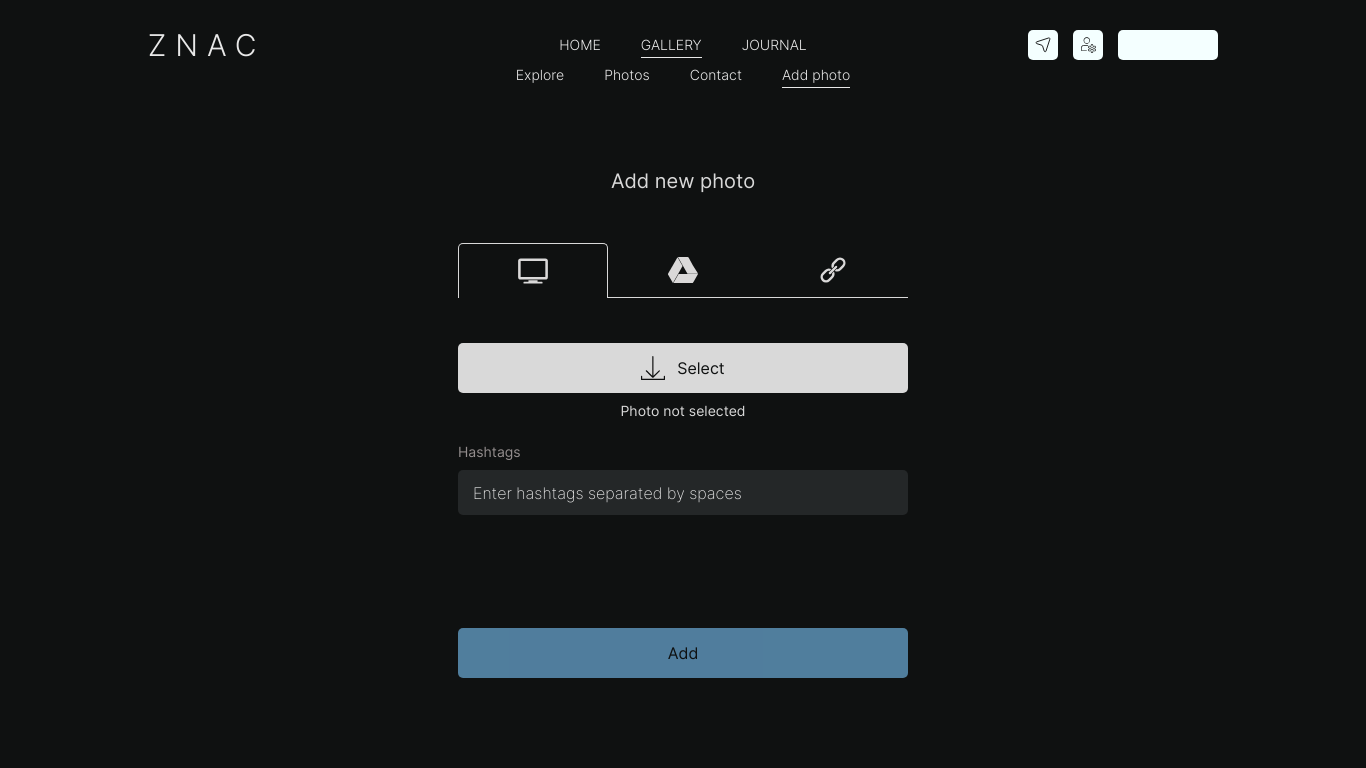
Test: upload photo form › adds photo via link
This screenshot has width=1366, height=768.
Click the 3rd tab "Add photo via link": (833, 270) [758,243,908,298]
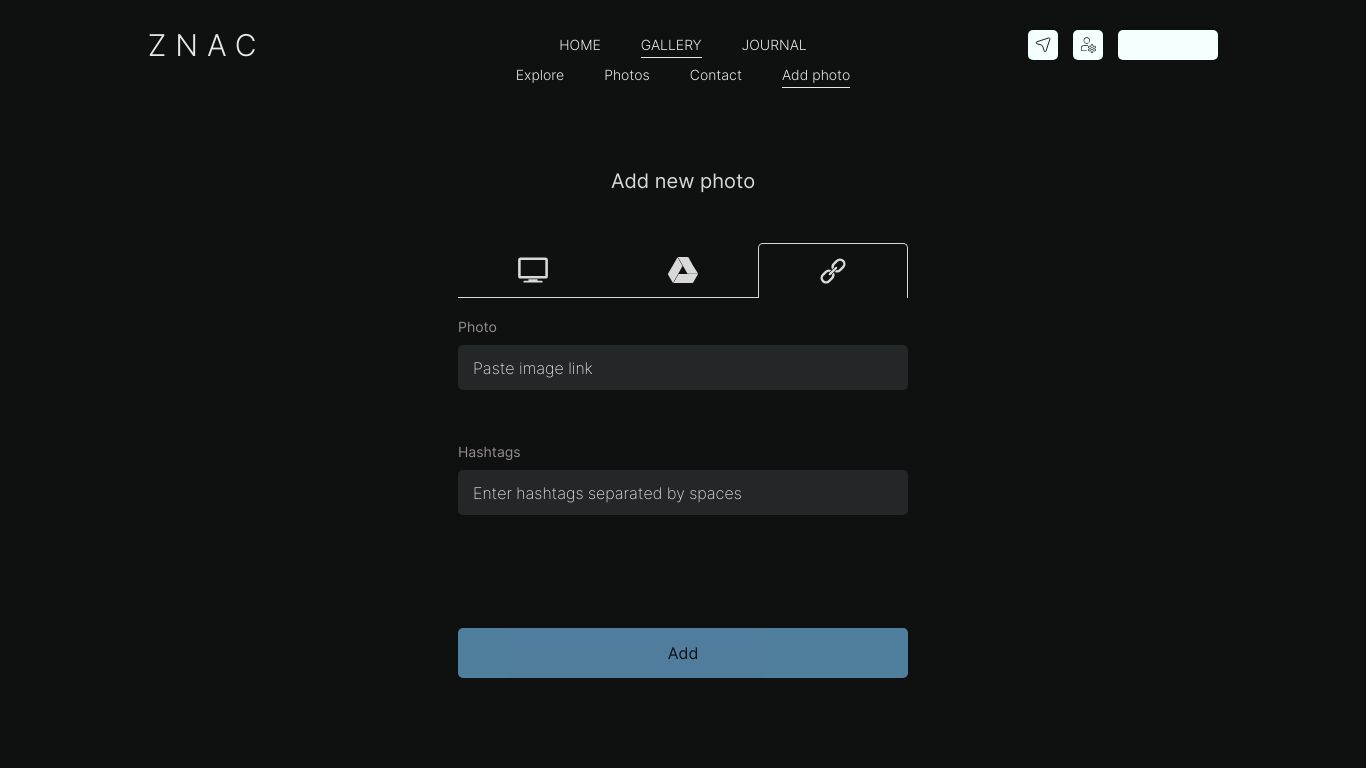
In the field with placeholder "Paste image link": (683, 368) [458,345,908,390], type "https://example.com/photo.jpg"
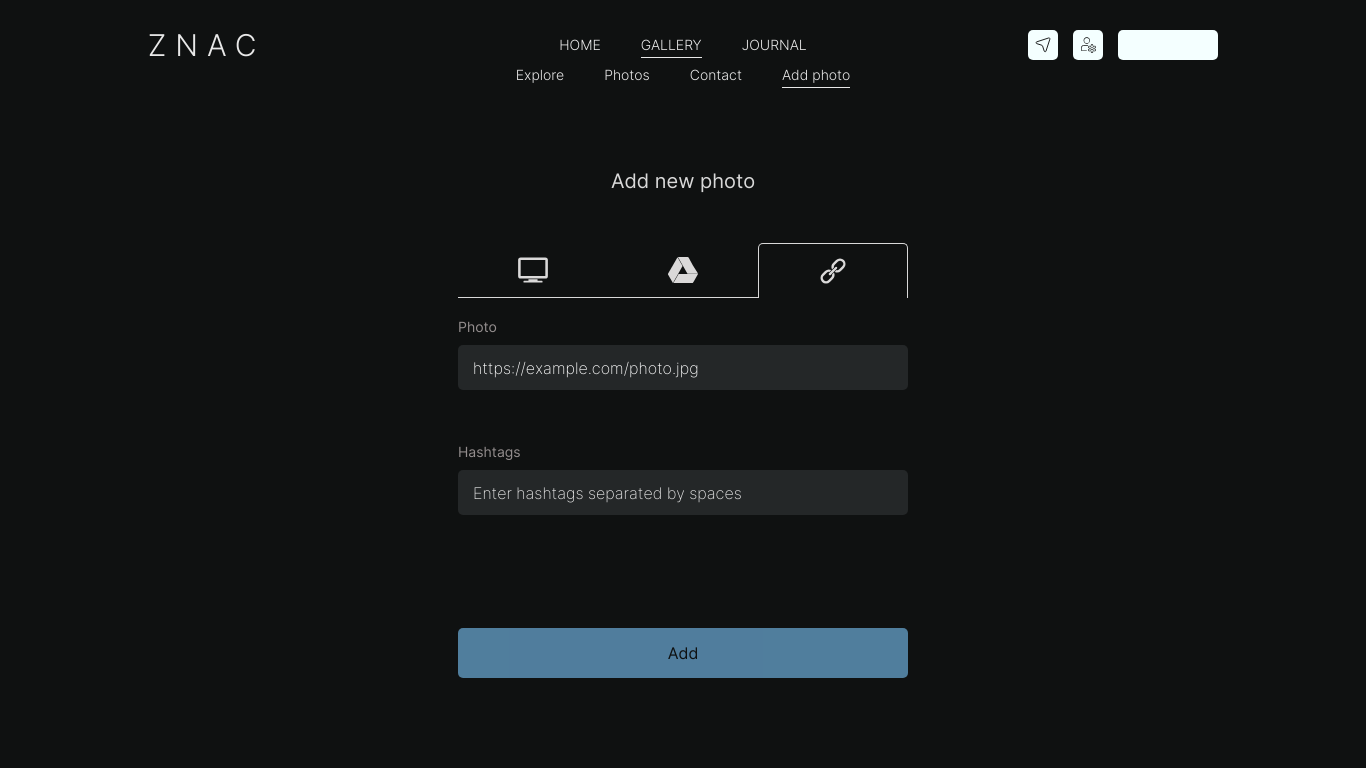
In the field with placeholder "Enter hashtags separated by spaces": (683, 492) [458,470,908,515], type "travel summer"
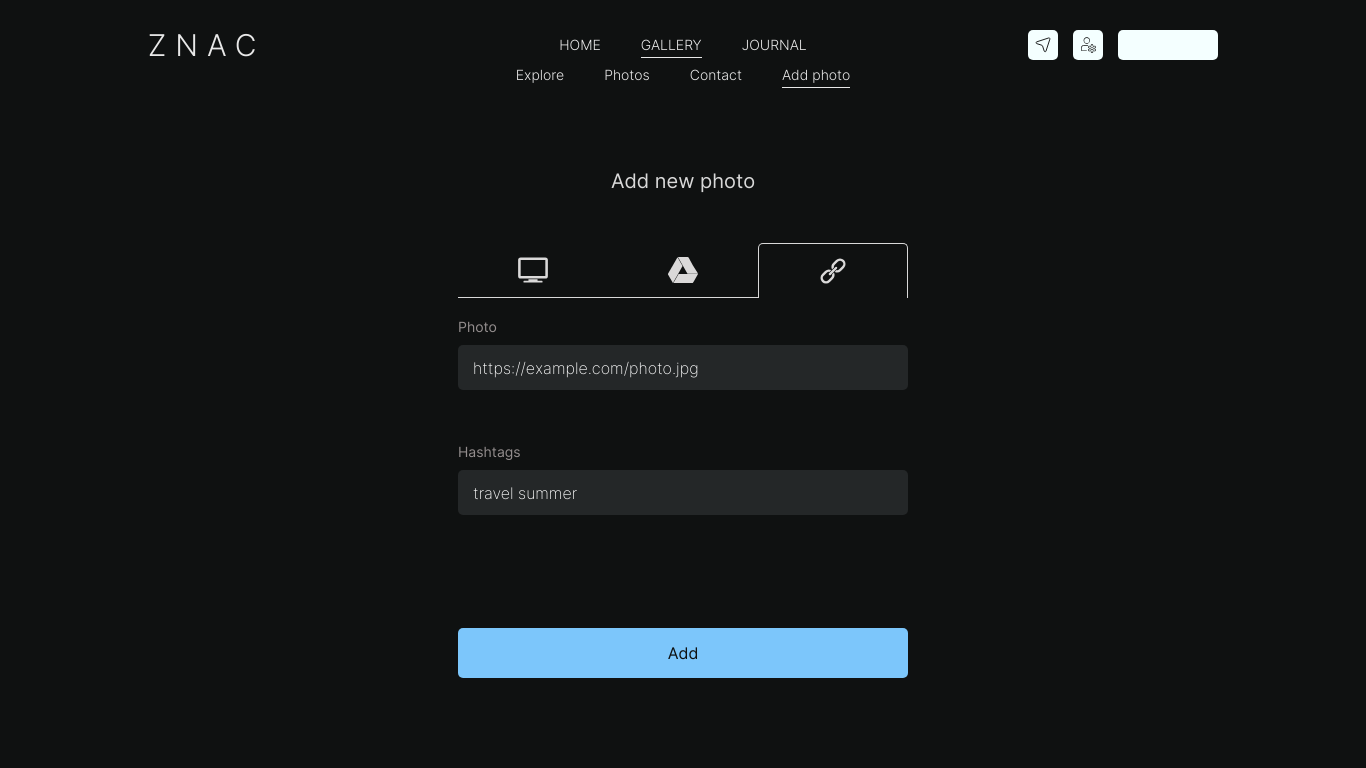
Expected: the button "Add" is enabled
Click the button "Add": (683, 653) [458,628,908,678]
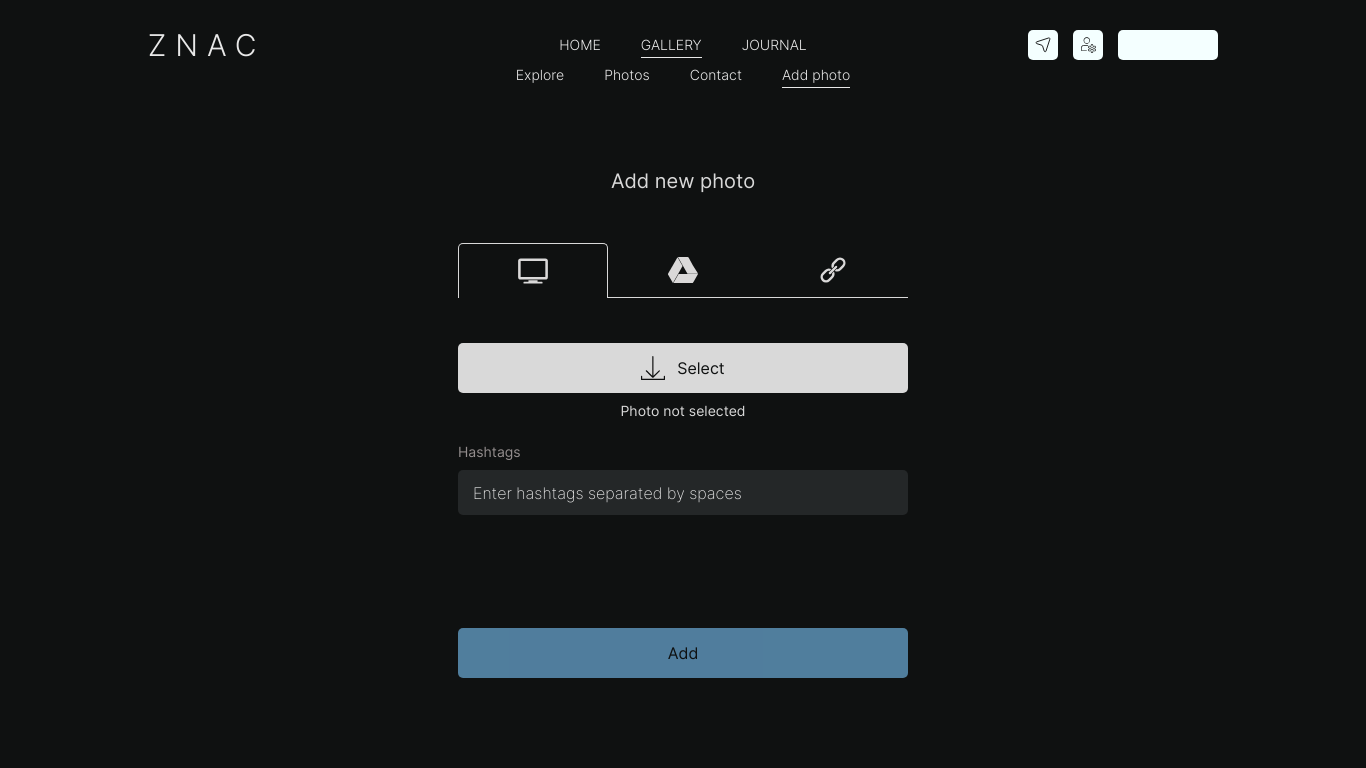
Expected: the list item "Photo not selected" is shown, [620,402,746,419]
